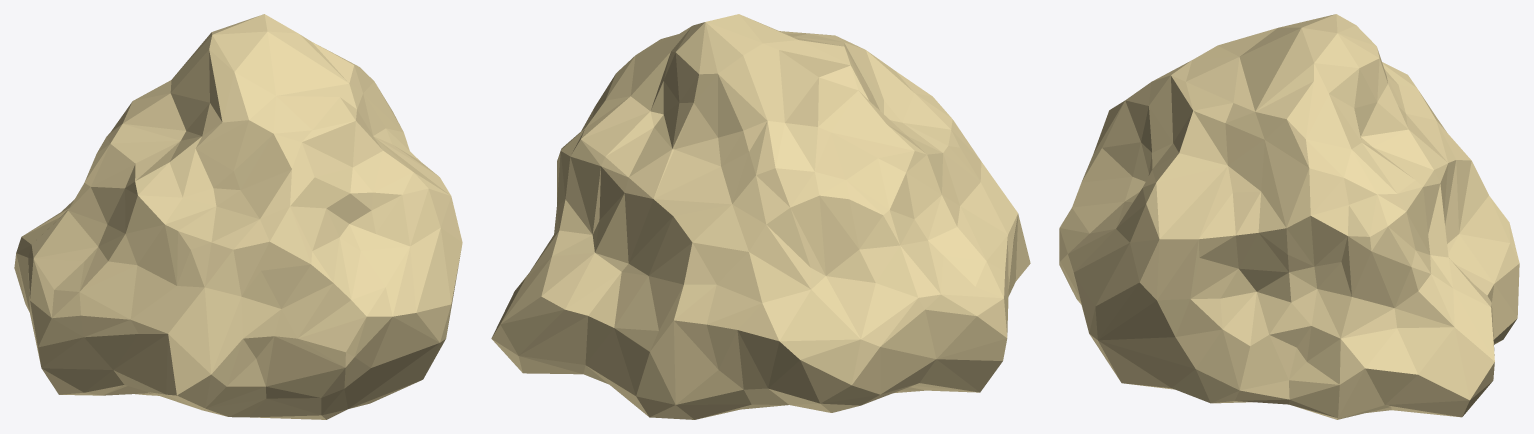
File: Asteroid (3).fbx
3 renders of one model, left to right at view 1: azimuth 30°, elevation 25°; view 2: azimuth 150°, elevation 25°; view 3: azimuth 270°, elevation 25°, orthographic. The views are drawn at different scales.
Visible parts, largest first — view 1: Asteroid114; view 2: Asteroid114; view 3: Asteroid114.
Boxes of the visible parts, x1,y1,x2,y2 form: Asteroid114: [14, 14, 462, 419]; Asteroid114: [491, 14, 1030, 419]; Asteroid114: [1059, 14, 1519, 419].
Size of the model in its own units: 254 by 204 by 241.
